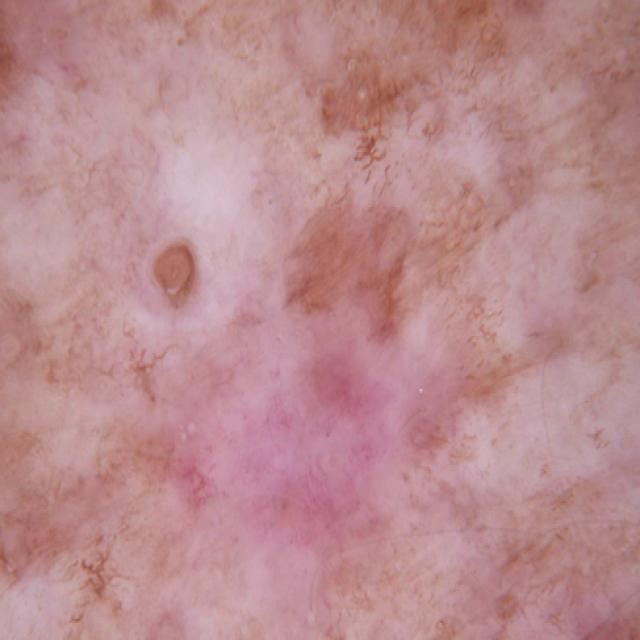Carcinoma: (152, 317, 439, 640)
